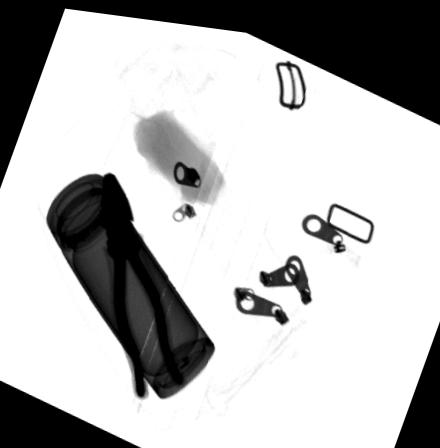Pliers: (94, 166, 184, 397)
